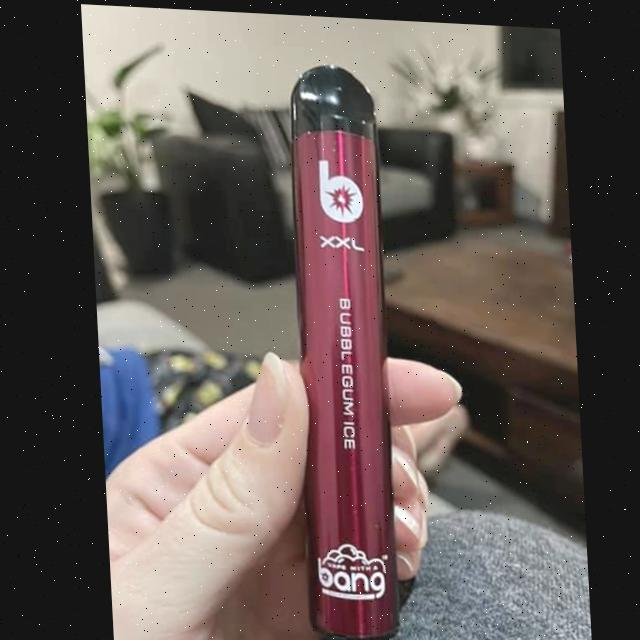vape: (280, 57, 397, 640)
